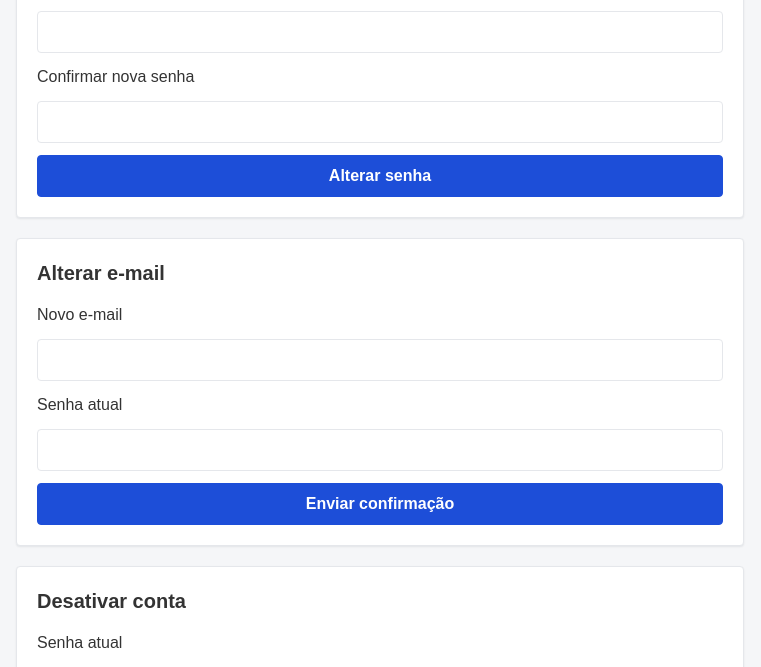
AccountSettings › explains unavailable delivery and preserves the submitted email
(page scrolled)
Type "new@example.com" into the field labelled "Novo e-mail".
click(380, 360); type("new@example.com")  # box [37, 339, 723, 381]
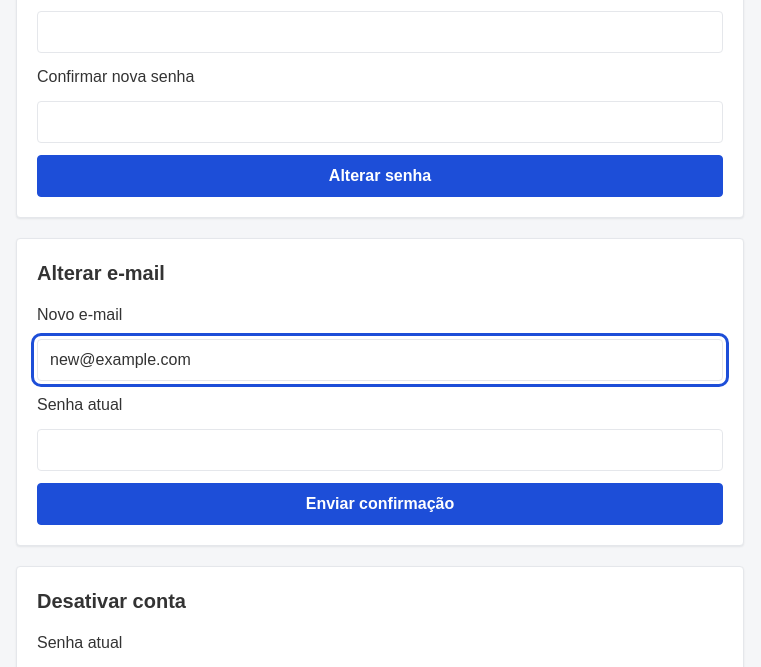
Type "secret" into the password field labelled "Senha atual" below "Novo e-mail".
click(380, 450); type("secret")  # box [37, 429, 723, 471]
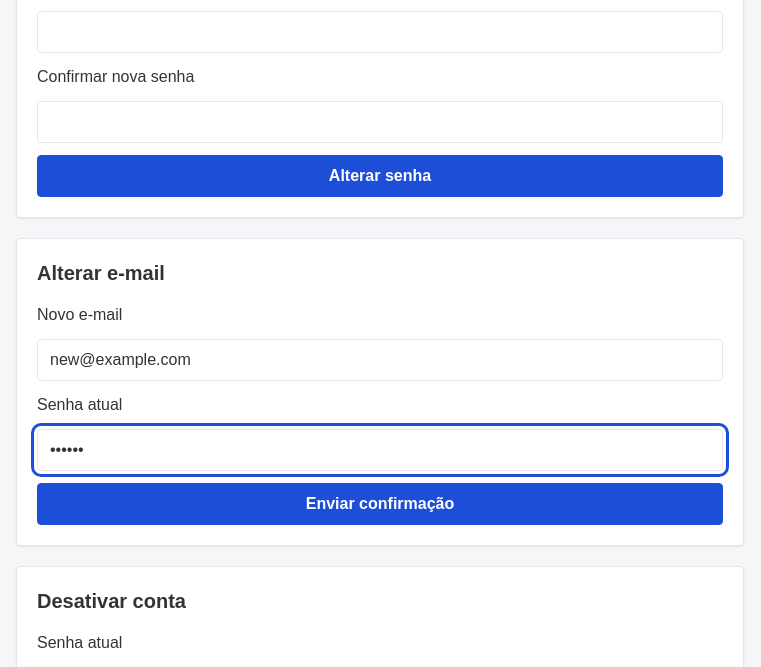
Click the button "Enviar confirmação".
click(380, 504)  # box [37, 483, 723, 525]
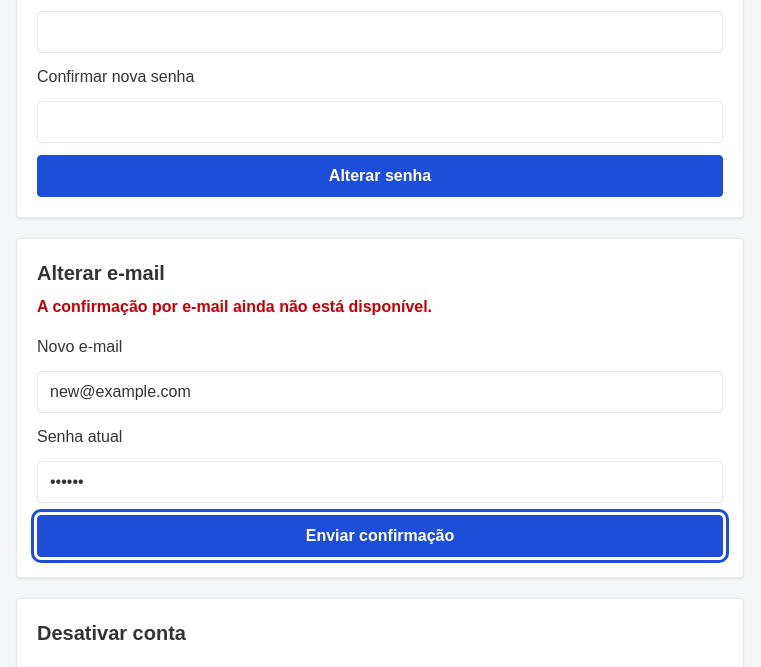
Result: the message reads "A confirmação por e-mail ainda não está disponível." at [37, 298, 432, 315]
